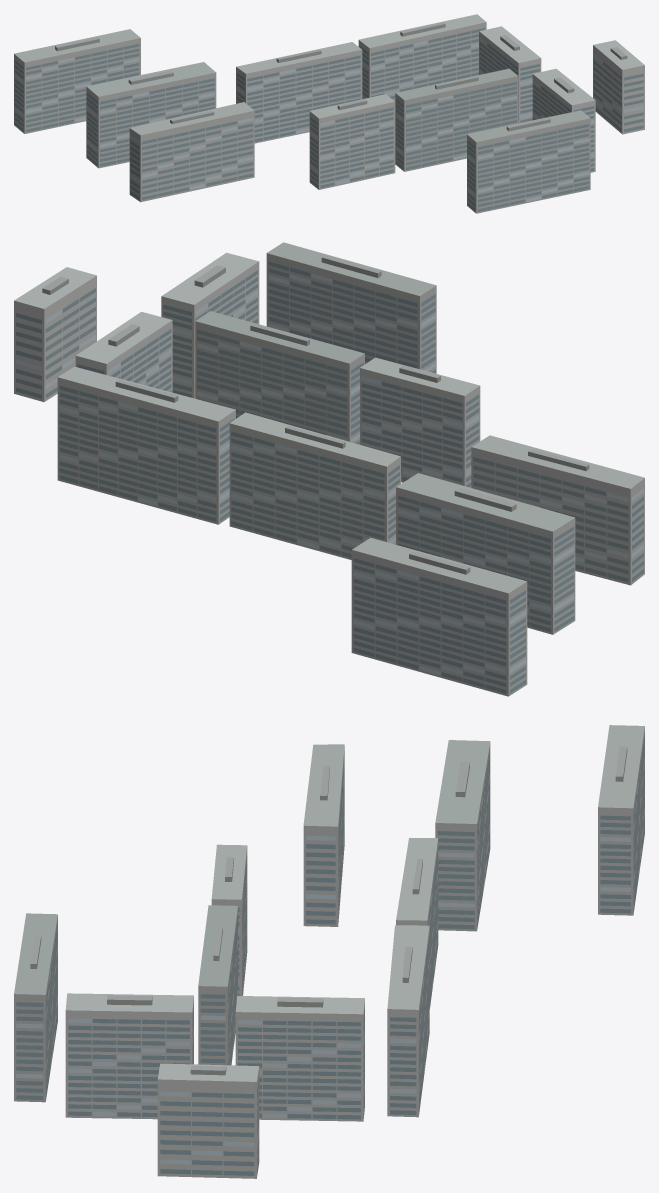
The model's file is apt-a13986013.glb.
The picture shows the model from 3 angles, top to bottom: view 1: azimuth 30°, elevation 25°; view 2: azimuth 150°, elevation 25°; view 3: azimuth 270°, elevation 25°; orthographic projection. The views are drawn at different scales.
Parts seen in each view (by area): view 1: apt-a13986013; view 2: apt-a13986013; view 3: apt-a13986013.
Part boxes in pixels (x1=…): apt-a13986013: x1=14, y1=14, x2=644, y2=213; apt-a13986013: x1=14, y1=242, x2=644, y2=696; apt-a13986013: x1=14, y1=725, x2=644, y2=1178.
Size of the model in its own units: 271 by 41 by 209.
